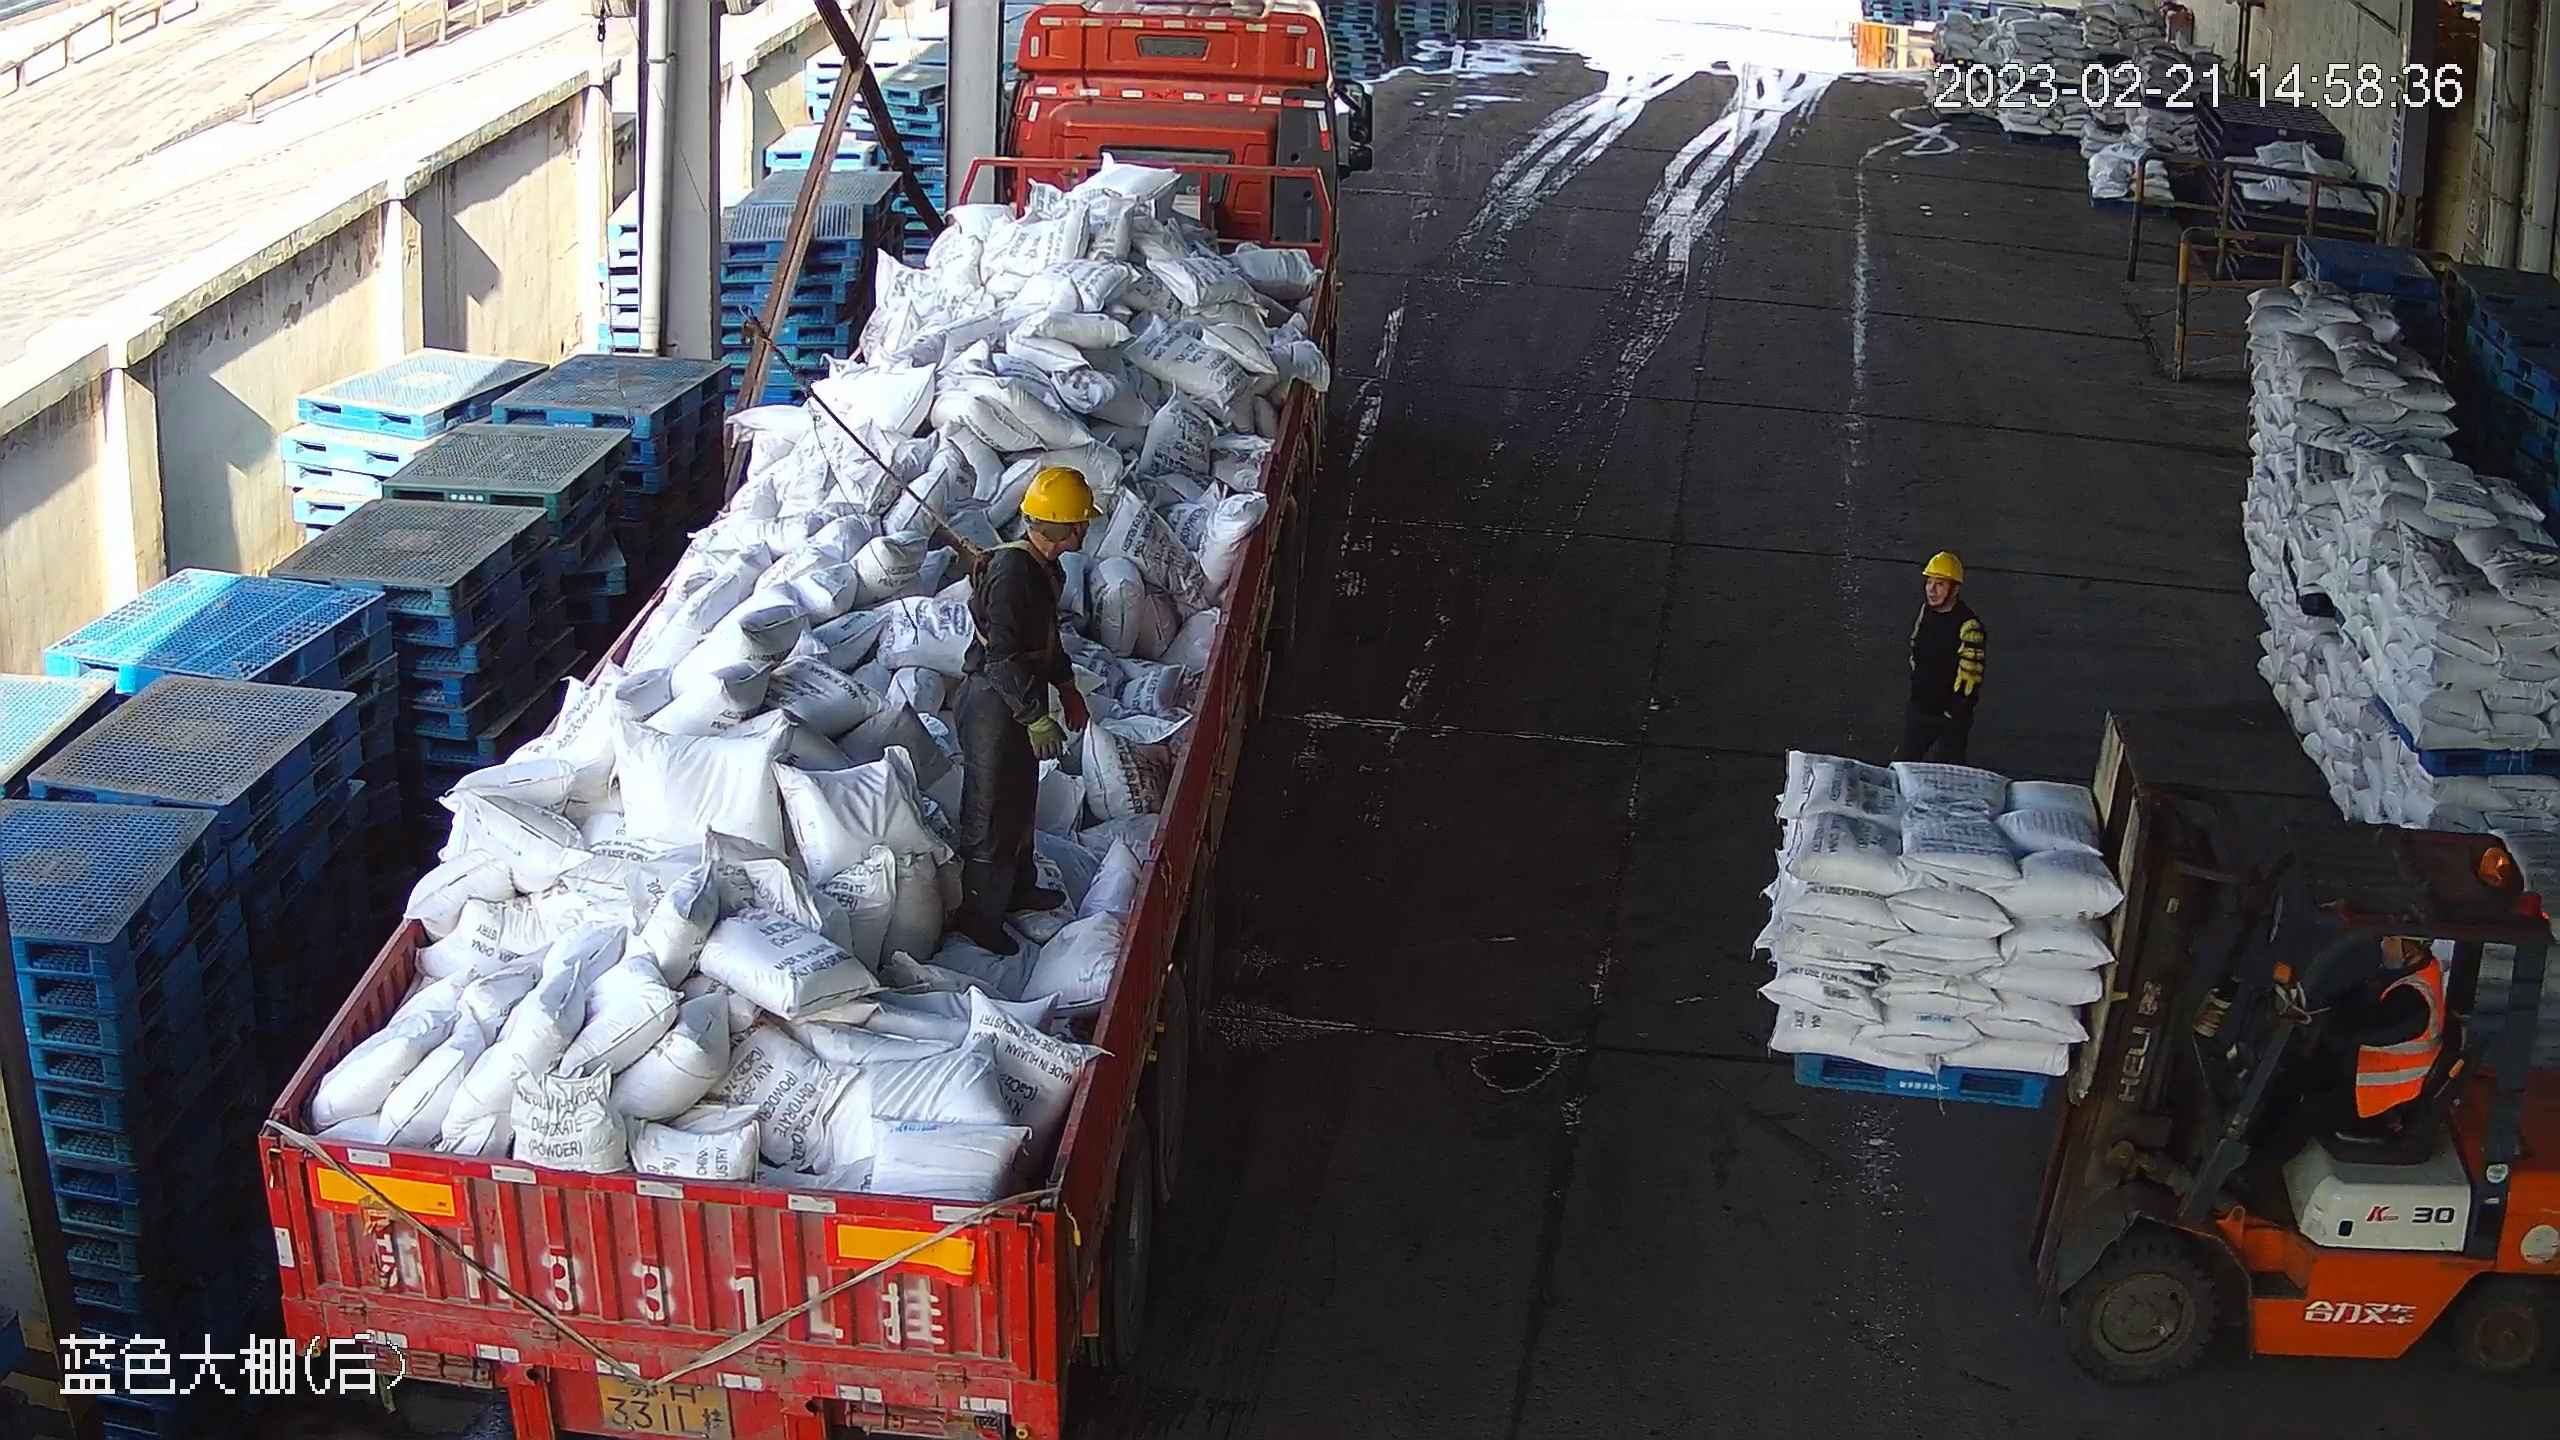belt: (956, 528, 1033, 647)
head: (978, 464, 1105, 628), (2327, 925, 2448, 1033), (1901, 544, 1983, 652)
helmet: (1019, 467, 1099, 526), (1923, 550, 1963, 585)
people: (944, 464, 1106, 972), (2254, 930, 2454, 1171), (1900, 547, 1988, 769)
truck: (257, 1, 1381, 1439)
